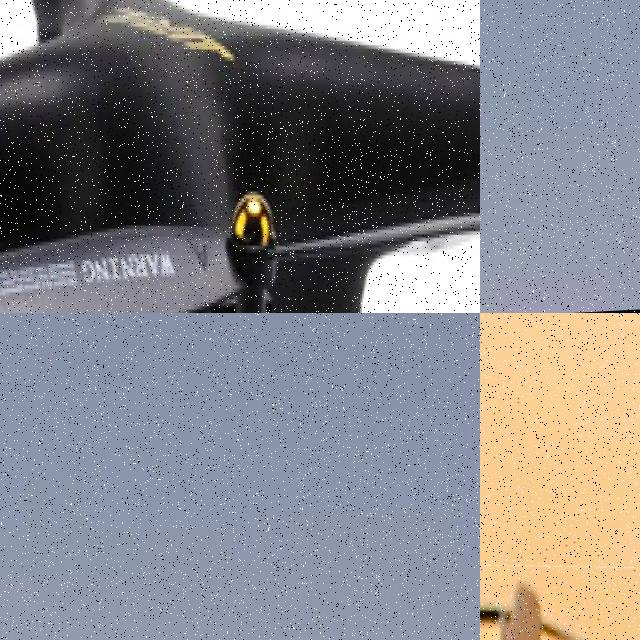drone: (0, 0, 480, 313), (480, 539, 640, 640)
